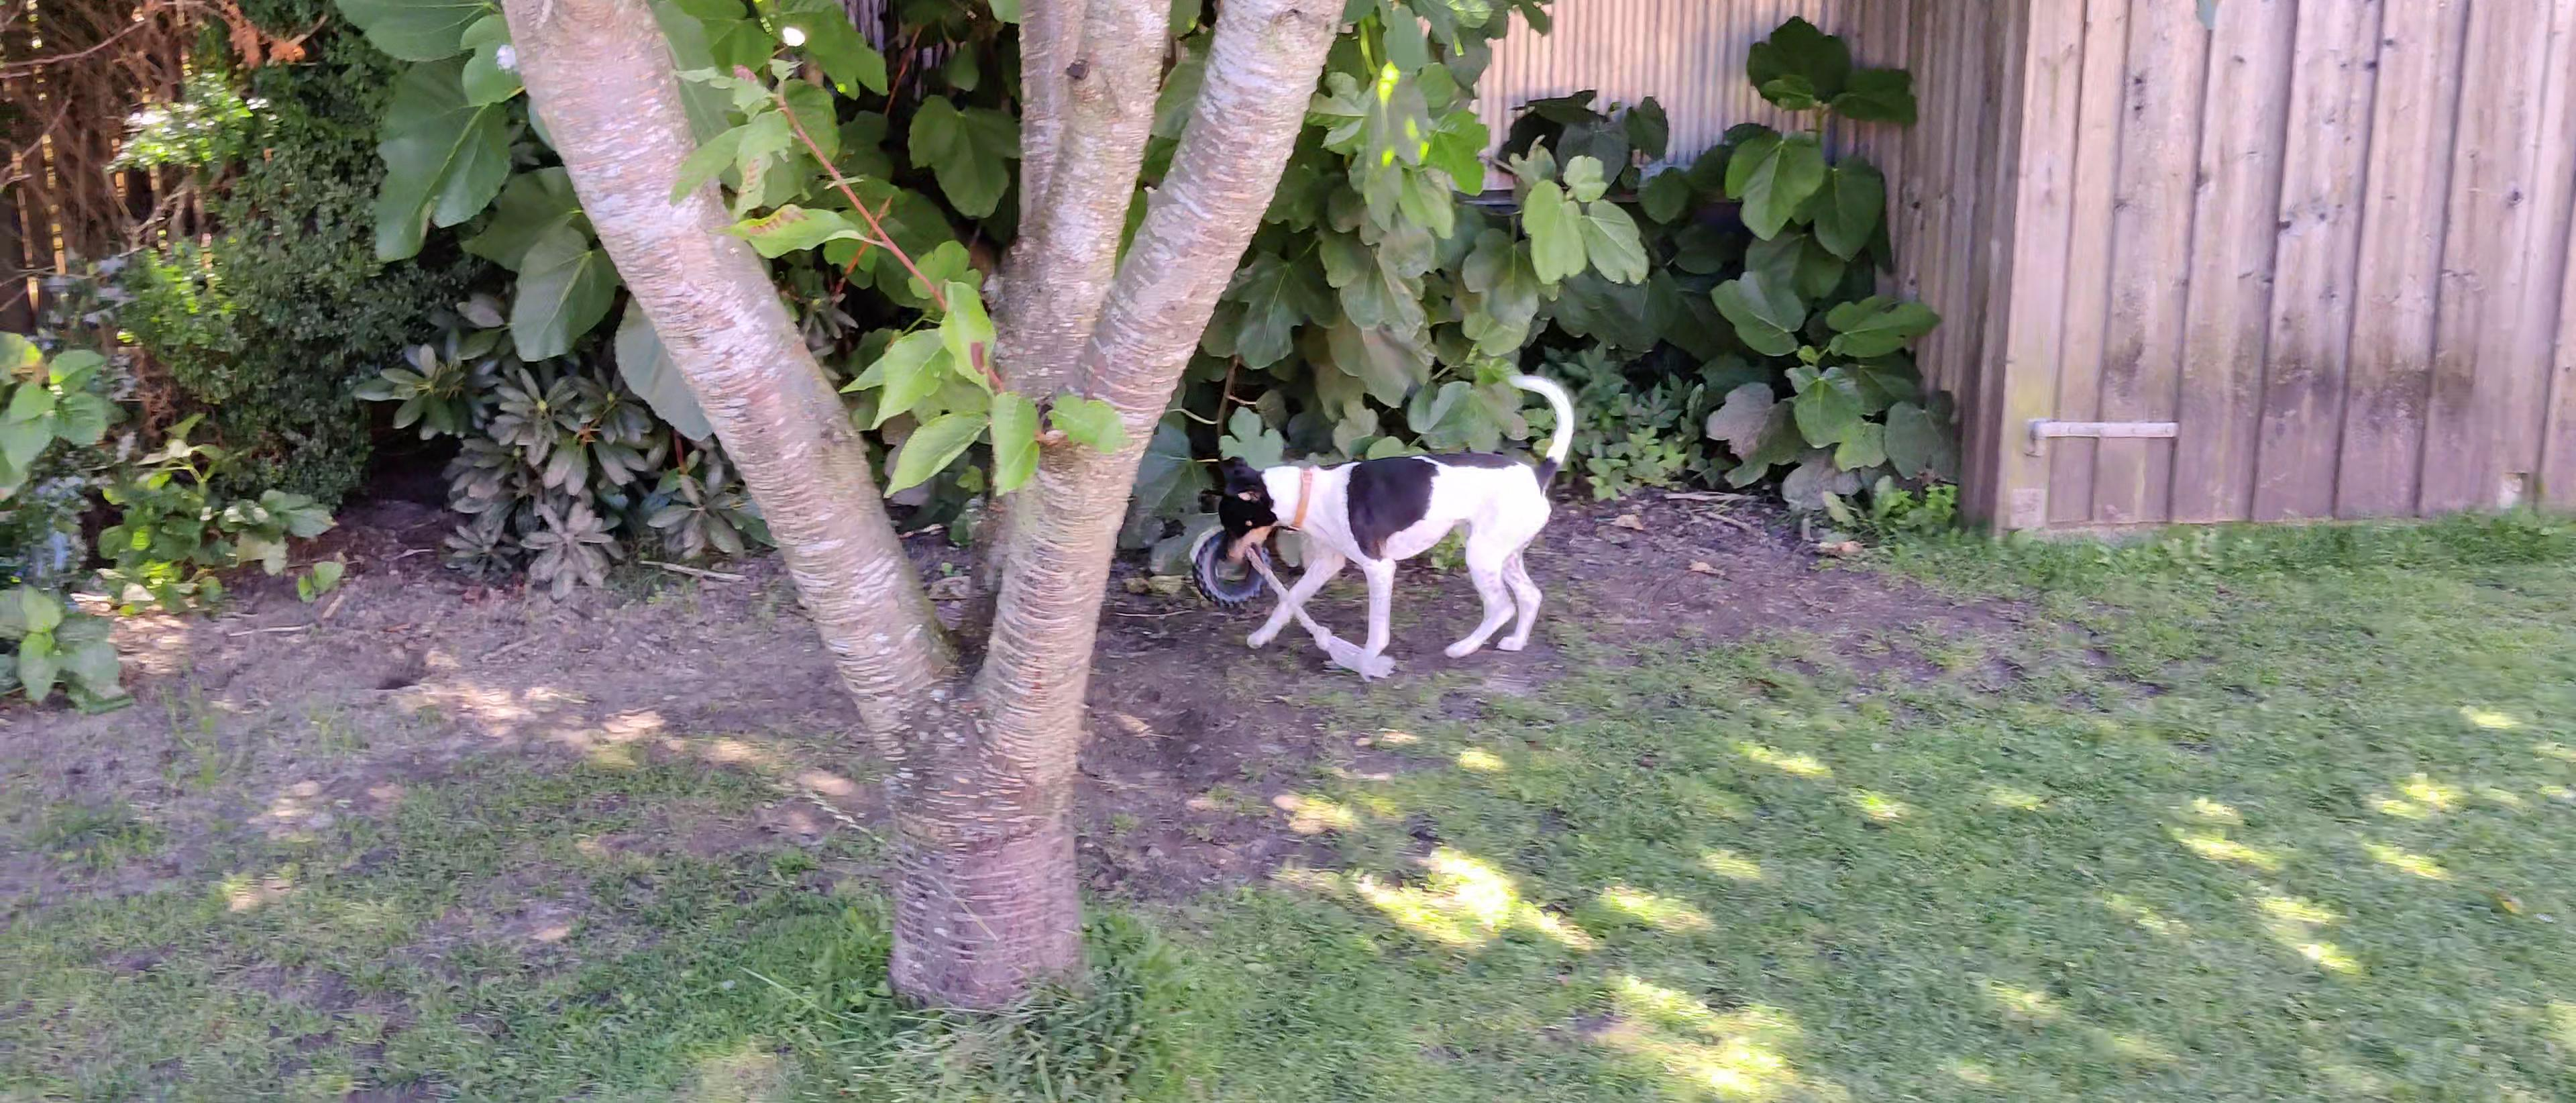Dog: (1201, 370, 1577, 672)
